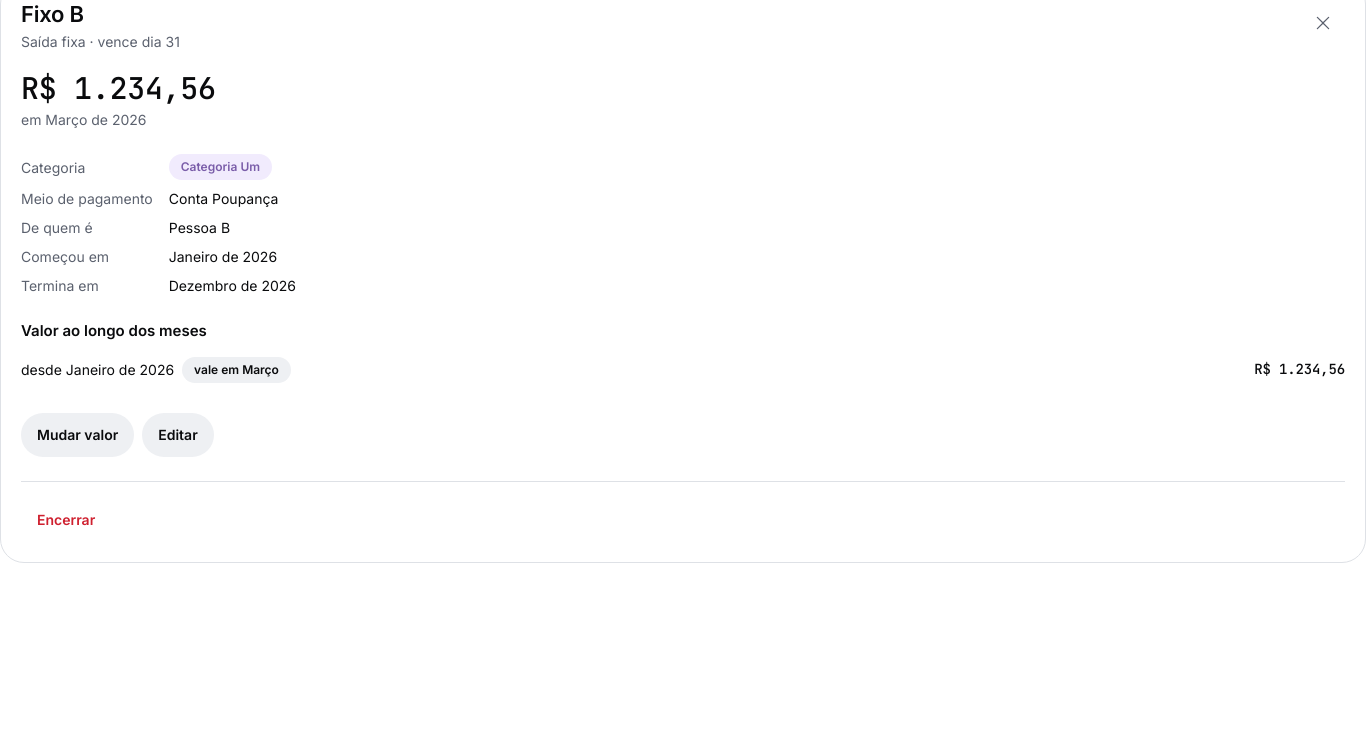
Test: editar no painel (FIXCOL-05, ACs 4 a 6) › salvar com mudou=true mostra “Alterações salvas.” e o formulário fica
This screenshot has width=1366, height=740.
Click the button "Editar" at (178, 435), box [142,413,214,457]
(page scrolled)
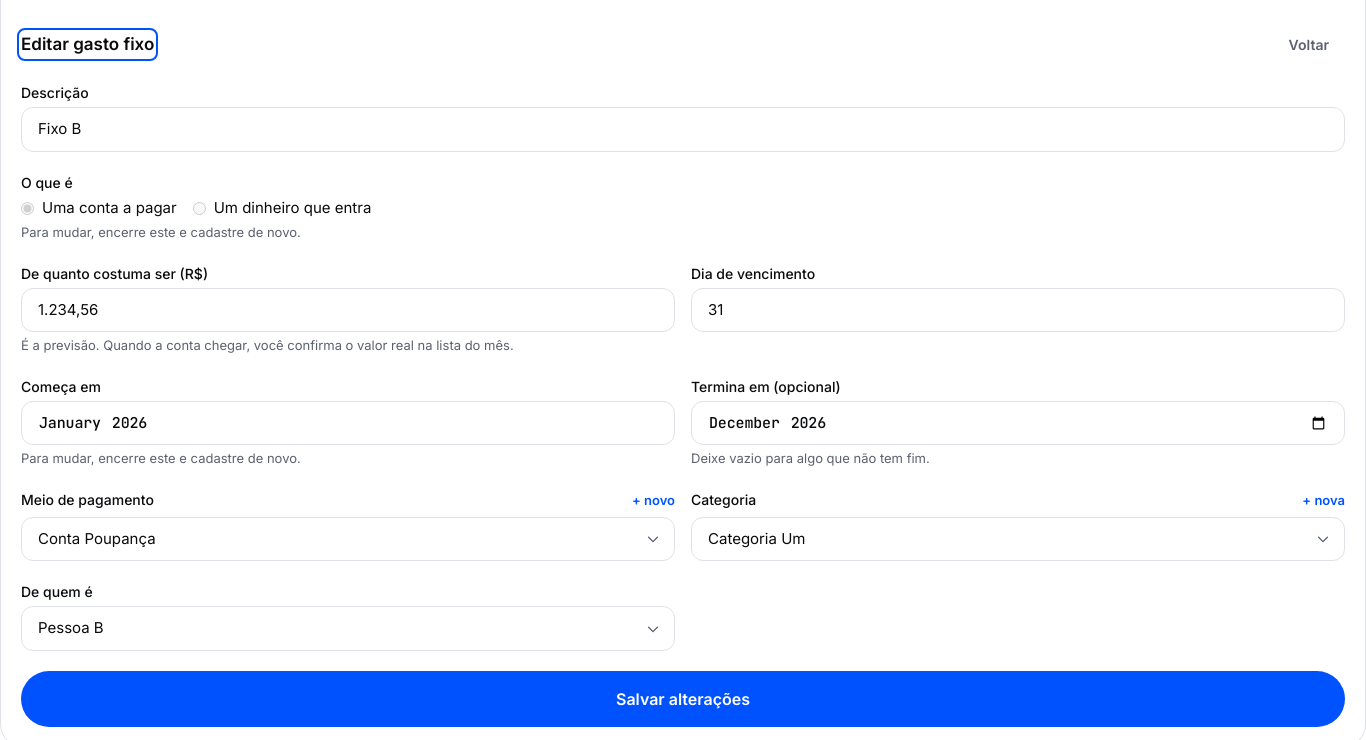
Click the button "Salvar alterações" at (683, 699), box [21,671,1345,727]
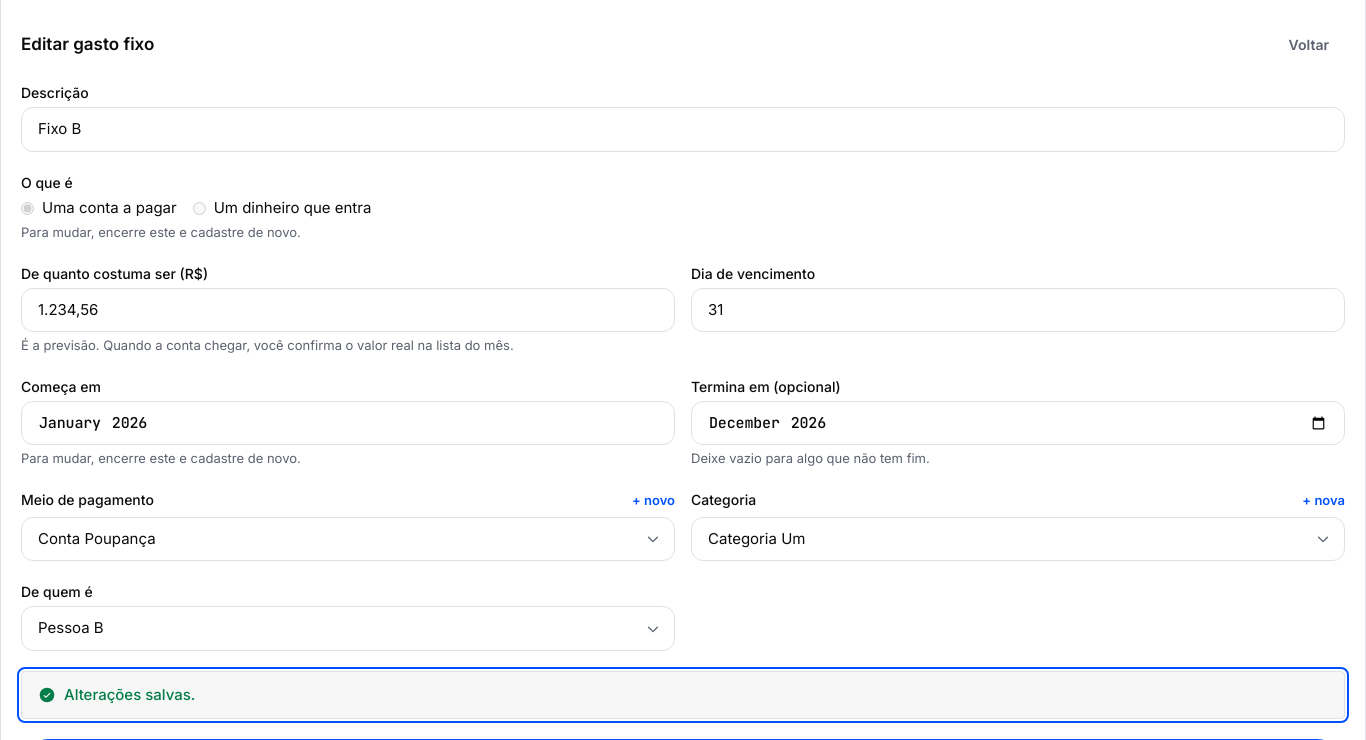
Result: the message reads "Alterações salvas." at [64,685,195,704]
